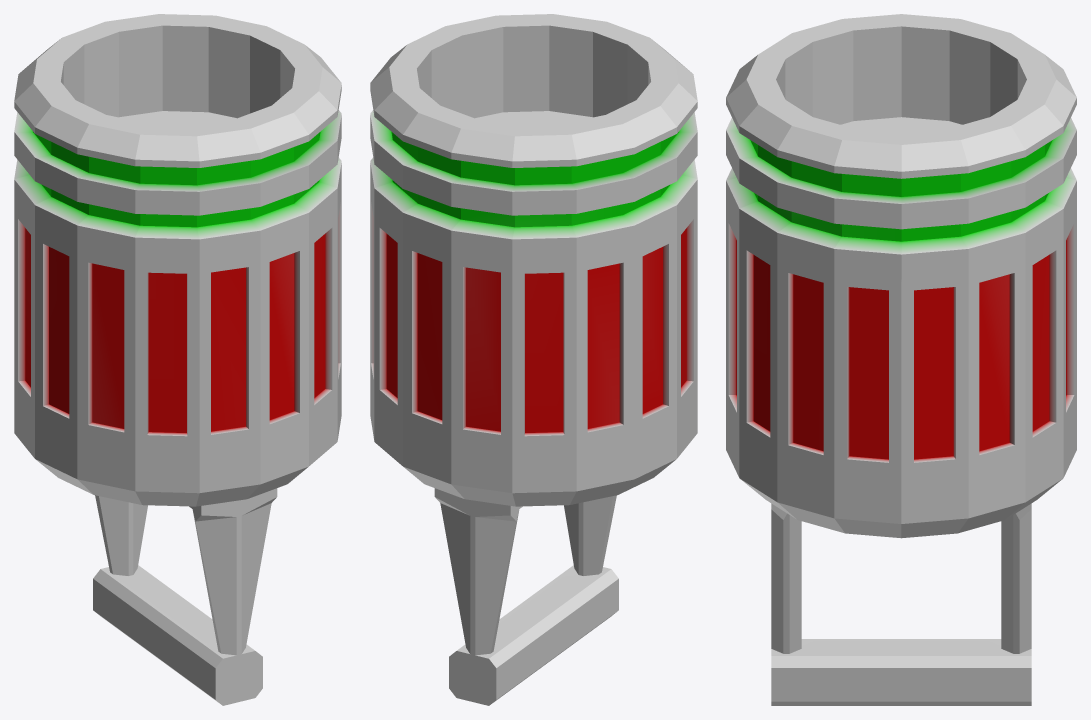
File: hook.fbx
The picture shows the model from 3 angles, left to right: view 1: azimuth 30°, elevation 25°; view 2: azimuth 150°, elevation 25°; view 3: azimuth 270°, elevation 25°; orthographic projection. The views are drawn at different scales.
Parts seen in each view (by area): view 1: Cylinder; view 2: Cylinder; view 3: Cylinder.
Boxes of the visible parts, <box> form: Cylinder: <box>14,14,341,705</box>; Cylinder: <box>370,14,697,705</box>; Cylinder: <box>726,14,1076,705</box>.
Bounding box in the file's own units: 200 × 389 × 200.
